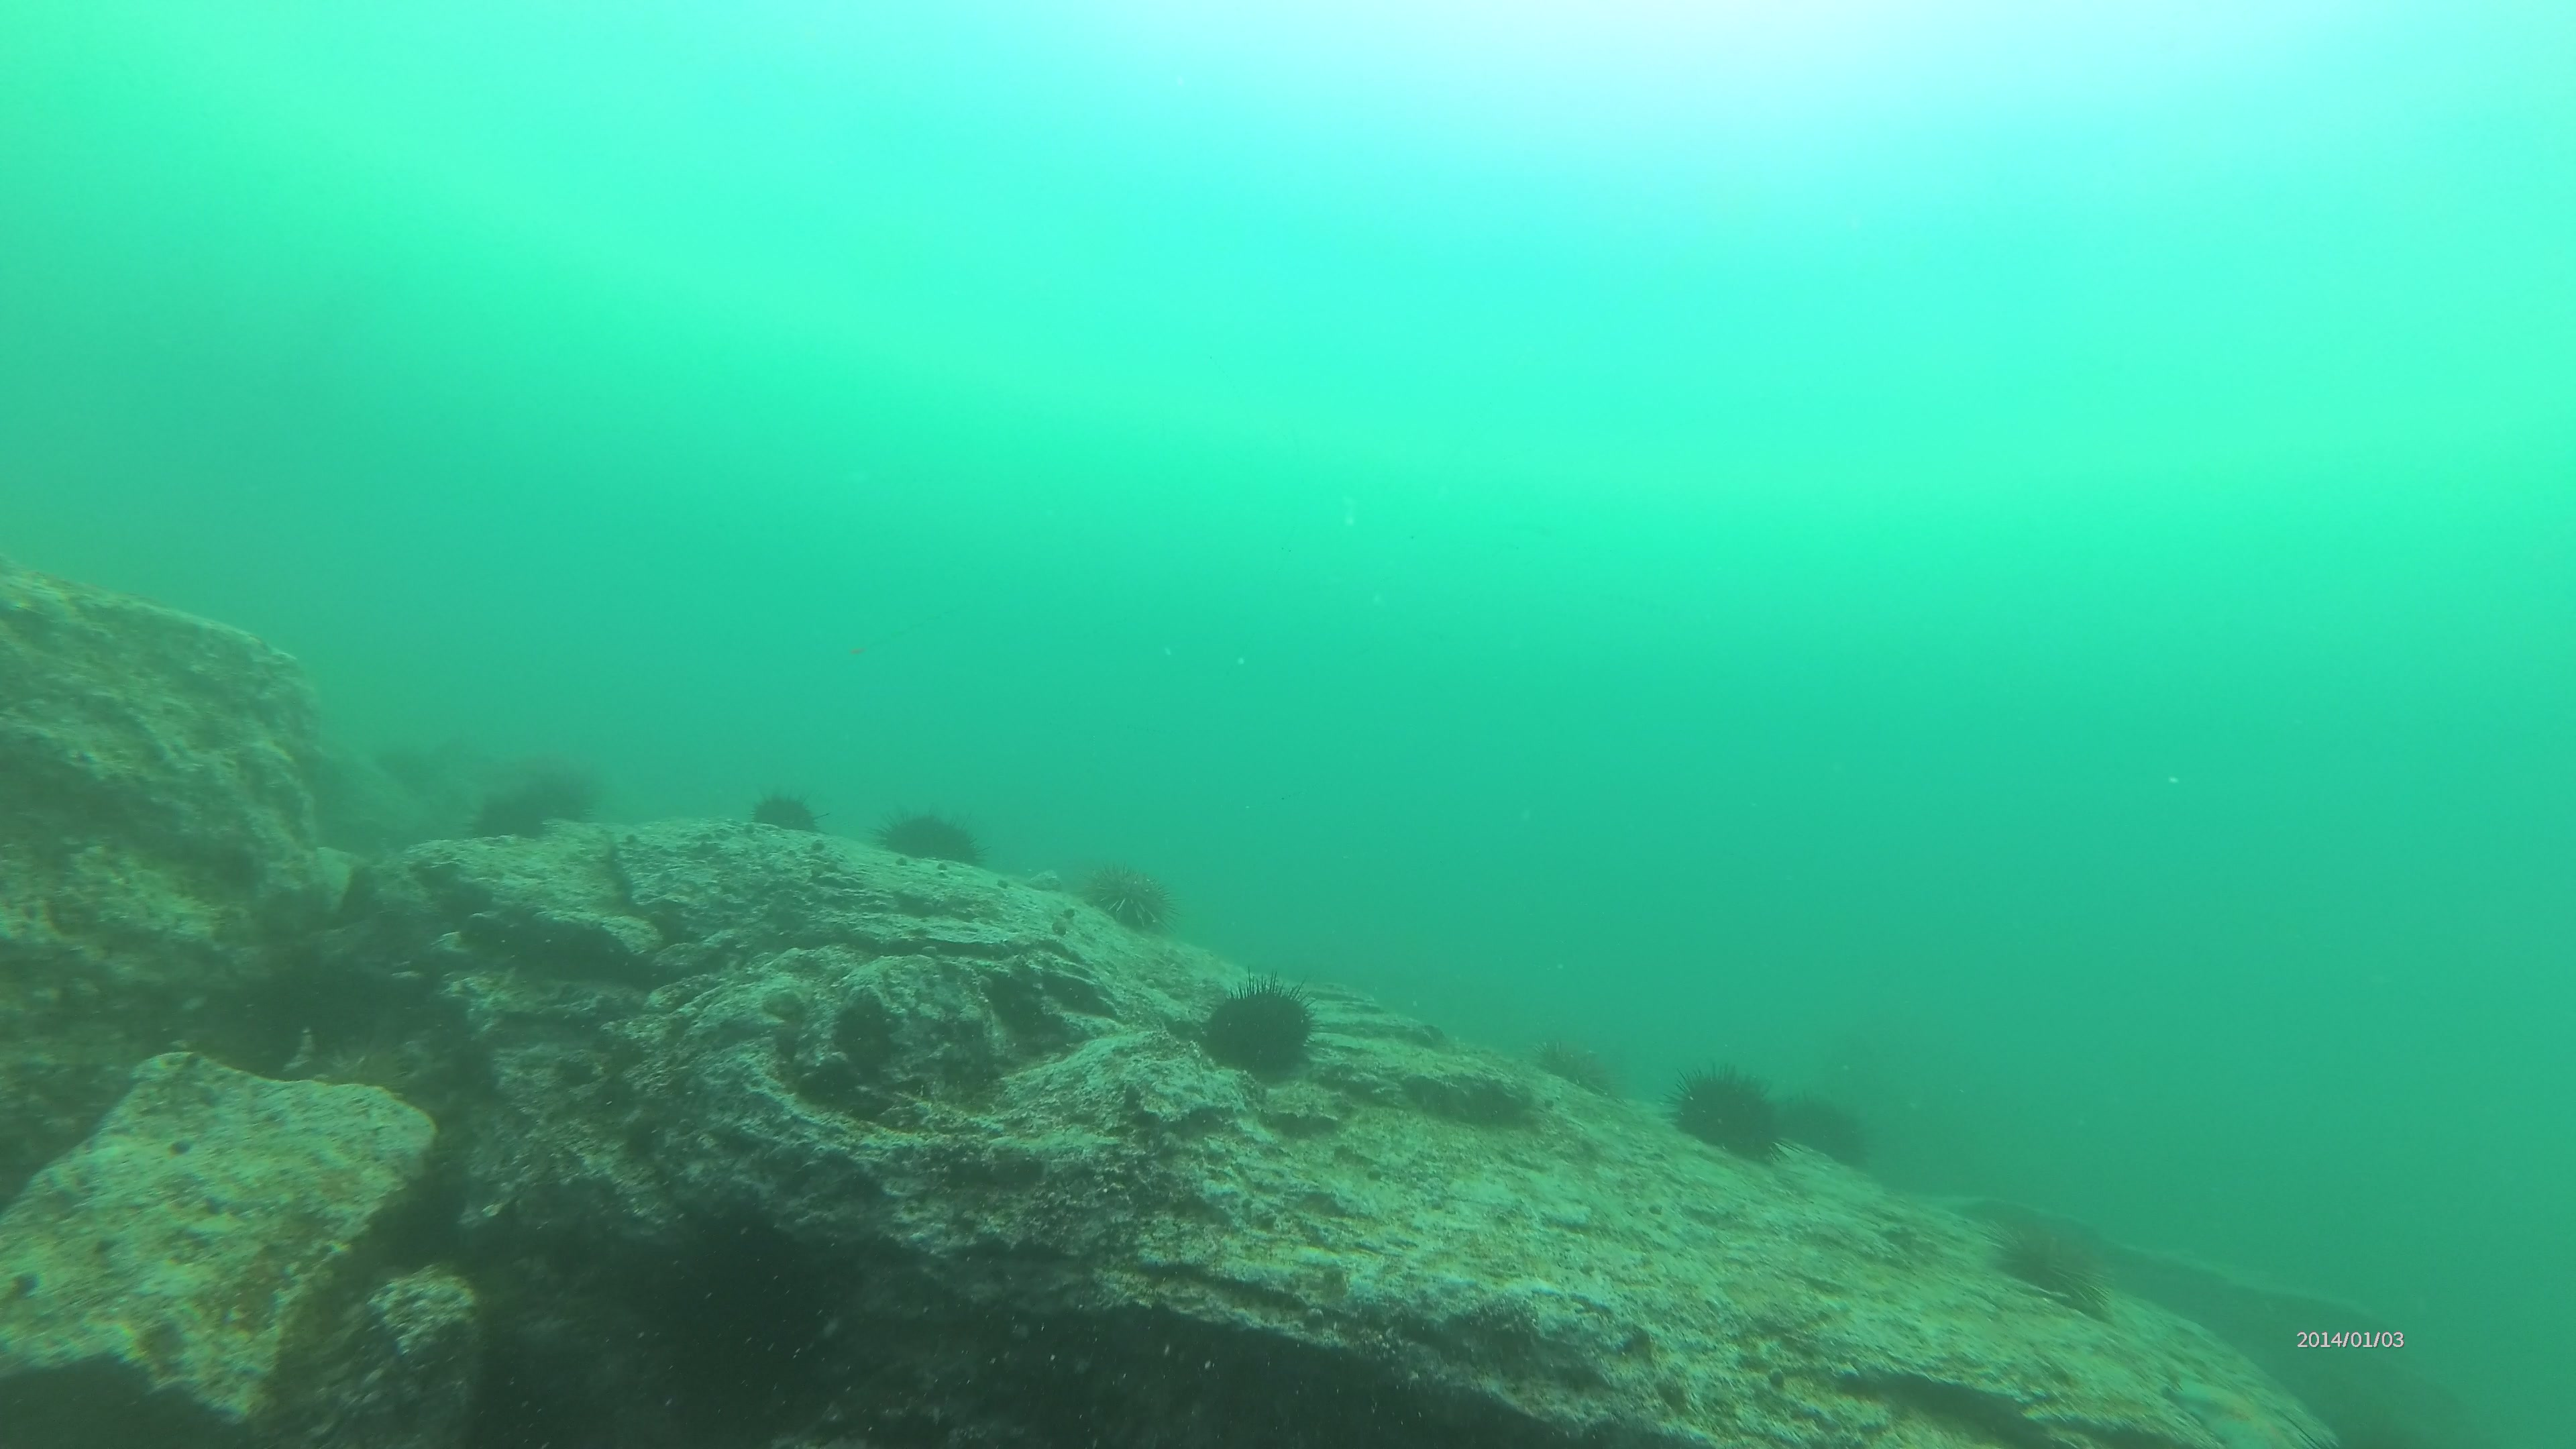echinus: (1985, 1205, 2118, 1322), (1194, 978, 1318, 1083), (1663, 1070, 1775, 1162), (1766, 1088, 1863, 1177), (872, 807, 982, 879), (1077, 860, 1175, 941), (1532, 1035, 1628, 1102), (743, 791, 828, 847), (474, 786, 543, 847)
